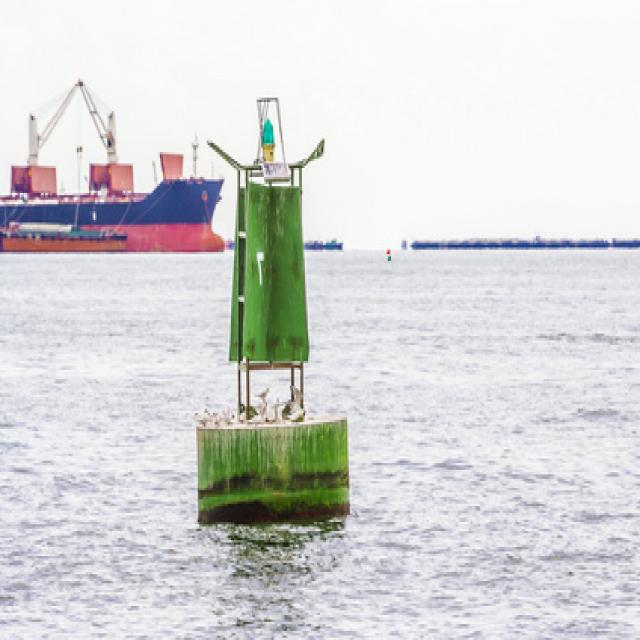buoy: (189, 88, 353, 522)
